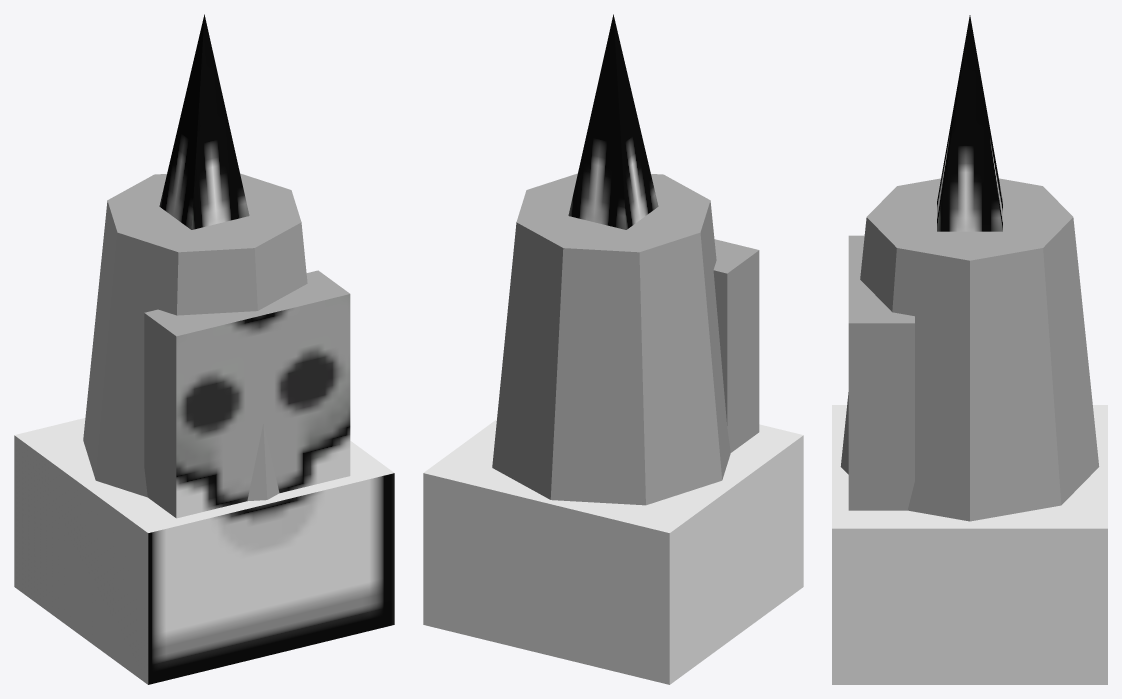
The model's file is Building_Skullspike.obj.
3 views of the same model, side by side, from view 1: azimuth 30°, elevation 25°; view 2: azimuth 150°, elevation 25°; view 3: azimuth 270°, elevation 25° (orthographic). The views are drawn at different scales.
Parts seen in each view (by area): view 1: Body; view 2: Body; view 3: Body.
Part boxes in pixels (x1,y1,x2,y2): Body: (14, 14, 394, 684); Body: (423, 14, 803, 684); Body: (832, 15, 1107, 684).
Bounding box in the file's own units: 0.5312 × 1.22 × 0.5.
Materials: 1 (1 with a texture image).
